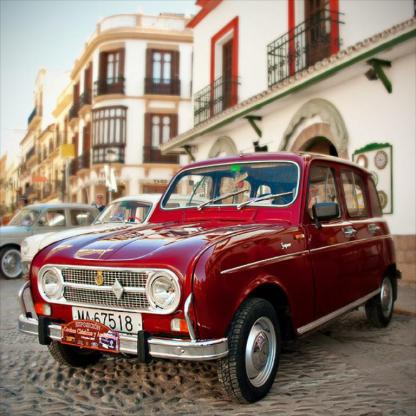Car: (19, 142, 400, 406), (23, 197, 211, 279), (1, 208, 100, 277)
